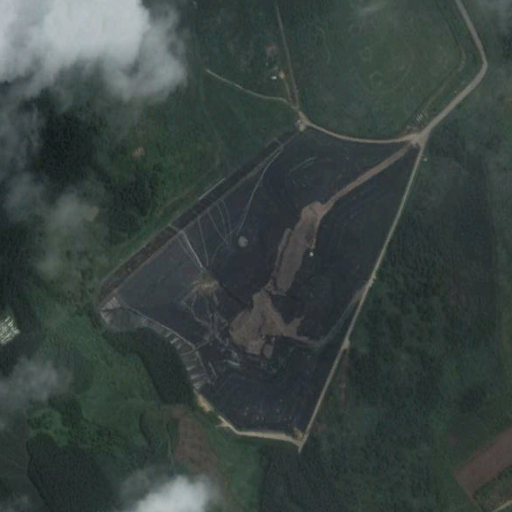lf: (98, 121, 421, 442)
